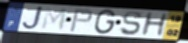G: (93, 9, 118, 36)
H: (139, 12, 170, 37)
J: (21, 6, 45, 31)
M: (40, 7, 69, 32)
P: (68, 8, 94, 33)
S: (119, 10, 143, 37)
